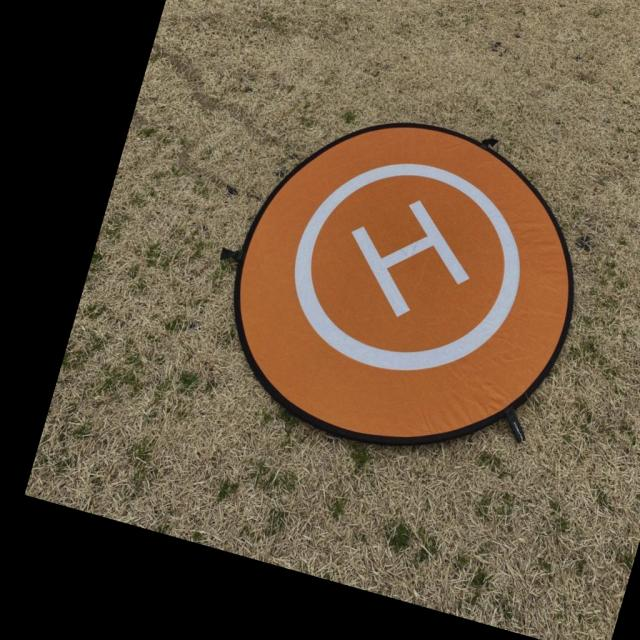helipad: (289, 156, 526, 376)
